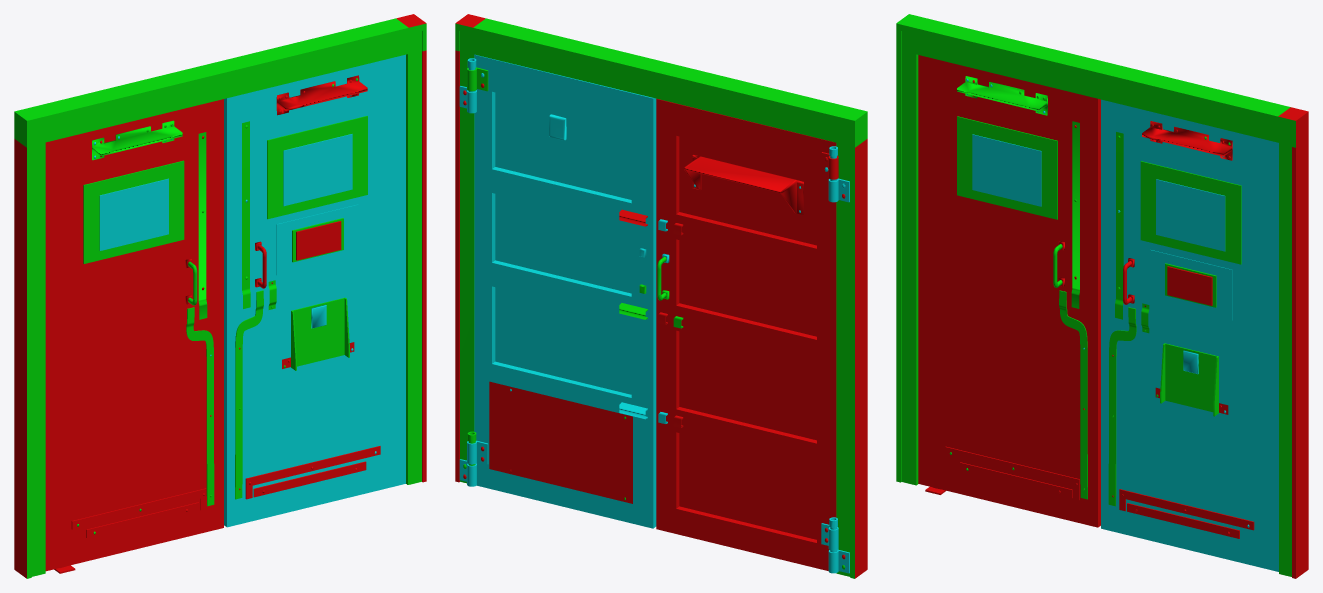
The model's file is DoubleMetalDoor_01.fbx.
3 renders of one model, left to right at view 1: azimuth 30°, elevation 25°; view 2: azimuth 150°, elevation 25°; view 3: azimuth 330°, elevation 25°, orthographic.
Visible parts, largest first — view 1: polySurfaceShape47.003; view 2: polySurfaceShape47.003; view 3: polySurfaceShape47.003.
Part boxes in pixels (x1,y1,x2,y2): polySurfaceShape47.003: (14, 14, 426, 578); polySurfaceShape47.003: (455, 14, 867, 578); polySurfaceShape47.003: (896, 14, 1308, 578).
Size of the model in its own units: 220 by 200 by 26.57.
